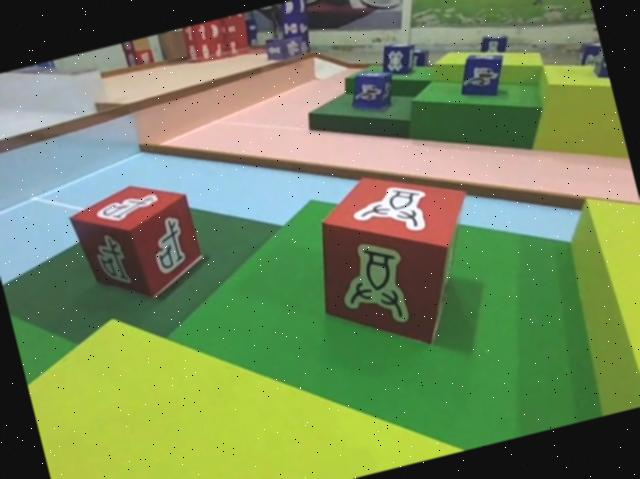R2 Real: (294, 154, 500, 371), (64, 167, 215, 316)
